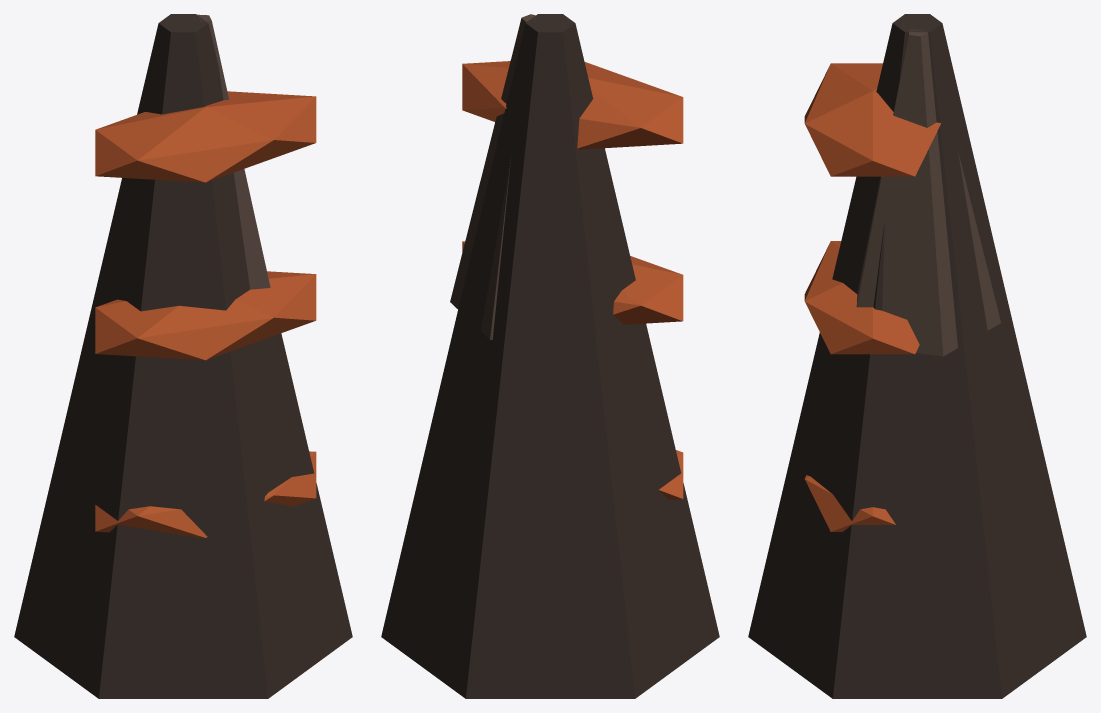
The model's file is tree_pine.glb.
3 renders of one model, left to right at view 1: azimuth 30°, elevation 25°; view 2: azimuth 150°, elevation 25°; view 3: azimuth 270°, elevation 25°, orthographic.
Parts seen in each view (by area): view 1: tree_pine; view 2: tree_pine; view 3: tree_pine.
Part boxes in pixels (box(x1,y1,x2,y2)): tree_pine: box(14, 14, 352, 698); tree_pine: box(381, 14, 719, 698); tree_pine: box(748, 14, 1086, 698).
Bounding box in the file's own units: 0.1645 × 0.38 × 0.19.
